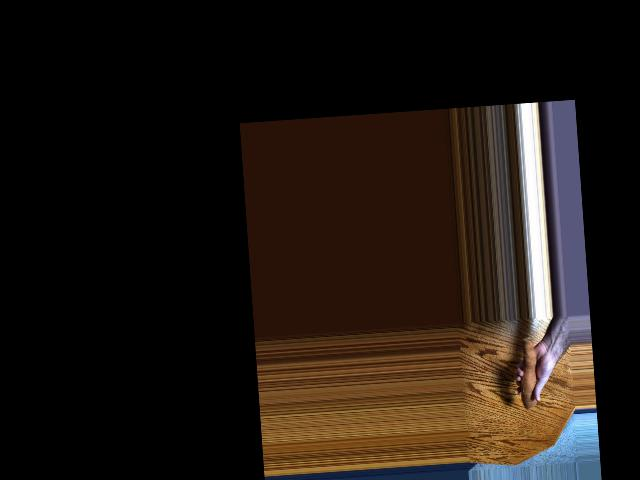sweet_potato: (515, 333, 548, 415)
